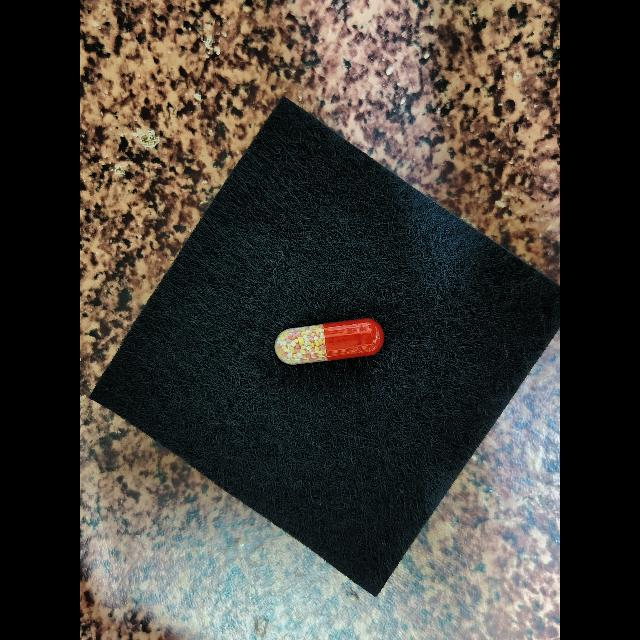Intact Capsule: (274, 318, 384, 364)
